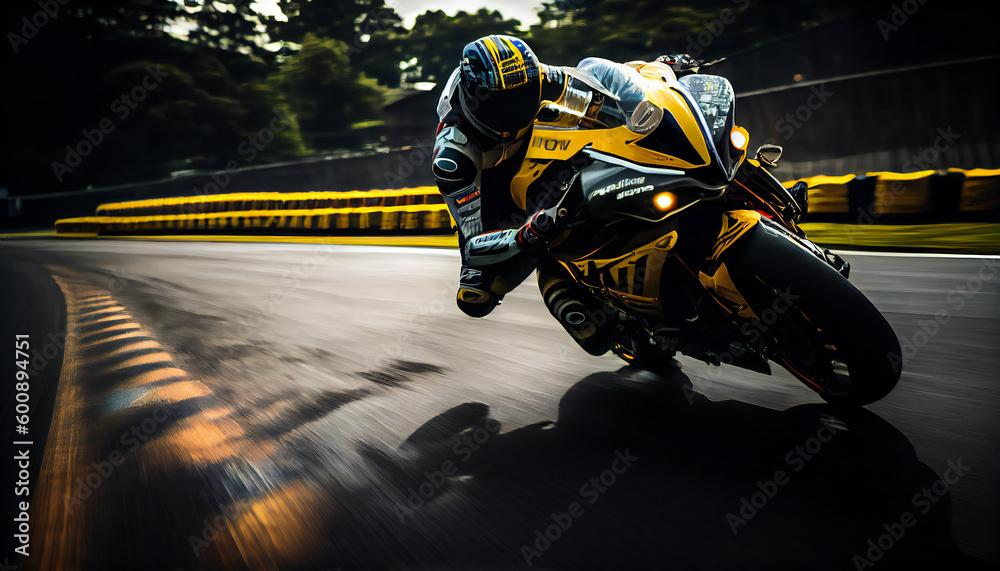helmet: (457, 34, 543, 144)
